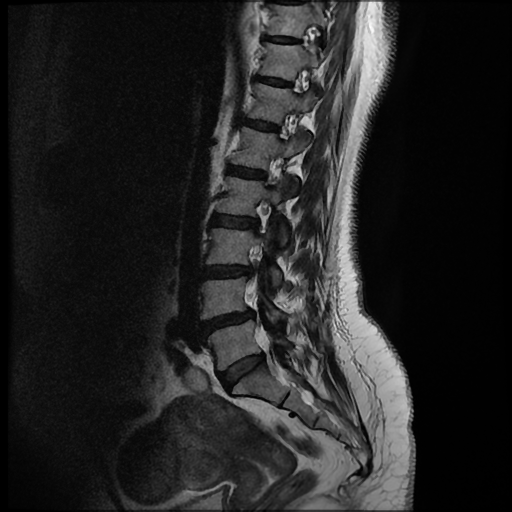RFS0: (250, 150, 290, 196), (249, 198, 283, 247)
